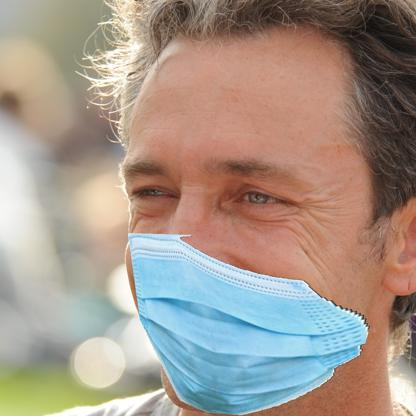mask: (123, 225, 377, 416)
